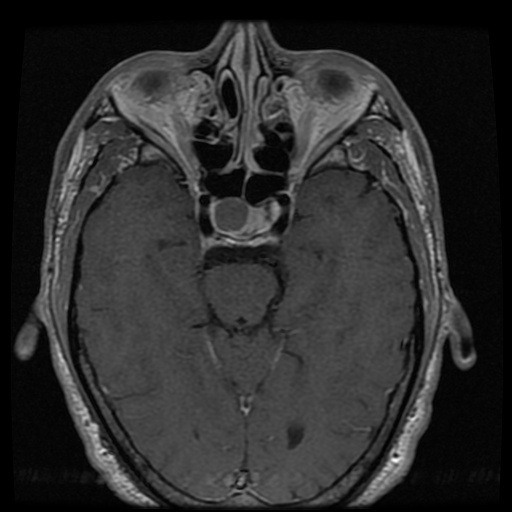pituitary: (212, 199, 260, 234)
